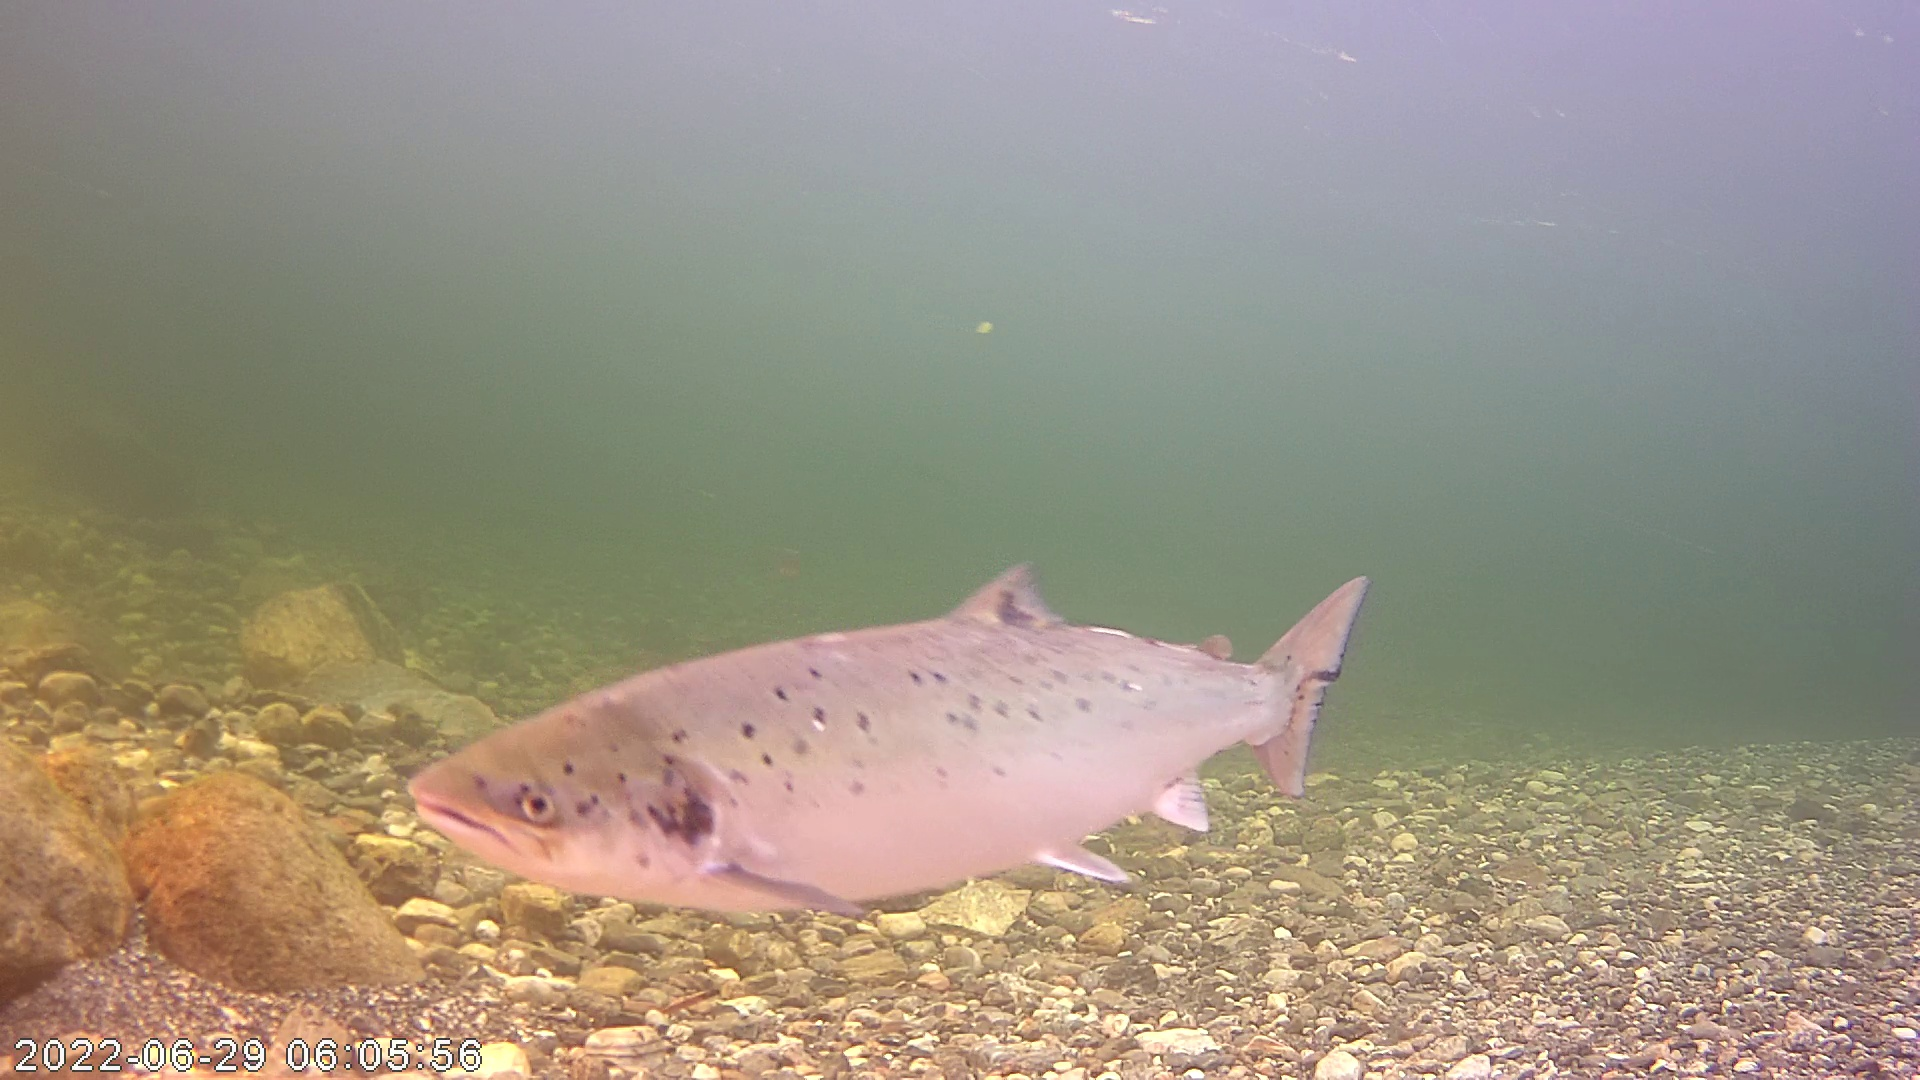salmon: (425, 481, 1360, 934)
